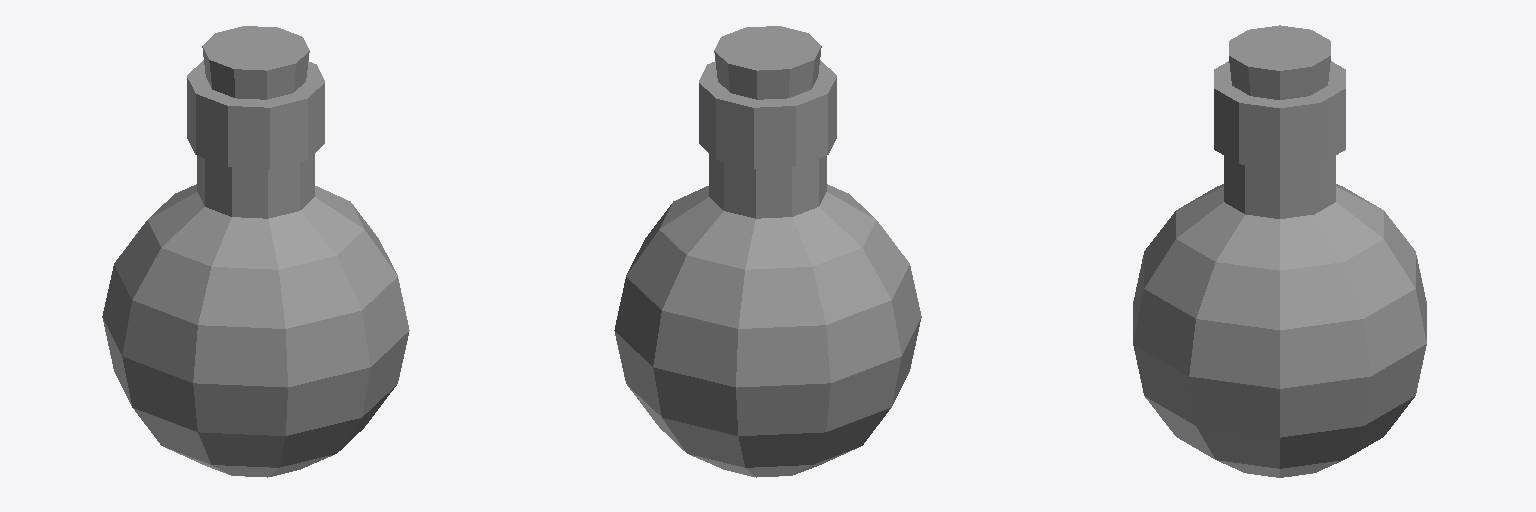
File: potion_6.obj
The picture shows the model from 3 angles: view 1: azimuth 30°, elevation 25°; view 2: azimuth 150°, elevation 25°; view 3: azimuth 270°, elevation 25°; orthographic projection.
Visible parts, largest first — view 1: potion_6_Sphere.007; view 2: potion_6_Sphere.007; view 3: potion_6_Sphere.007.
Part boxes in pixels (bbox=[...]): potion_6_Sphere.007: bbox=[102, 26, 409, 477]; potion_6_Sphere.007: bbox=[614, 26, 921, 477]; potion_6_Sphere.007: bbox=[1133, 25, 1426, 477].
Size of the model in its own units: 2 by 2.97 by 1.9.